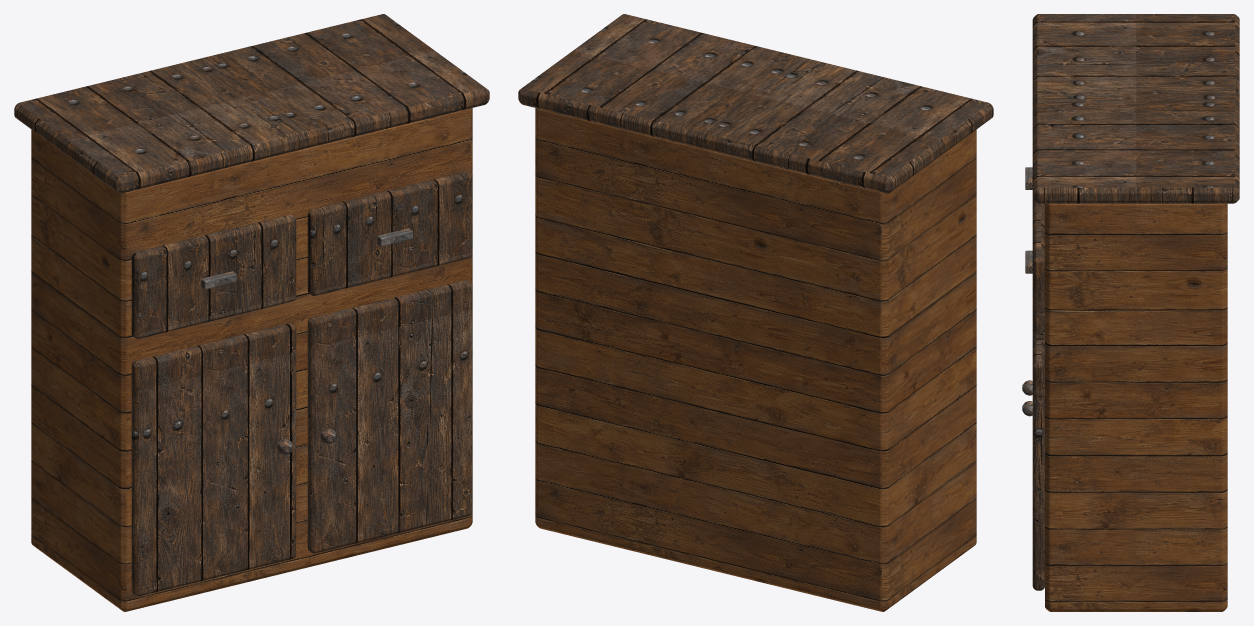
The model's file is kitchen-cabinet-v01.glb.
The picture shows the model from 3 angles, left to right: view 1: azimuth 30°, elevation 25°; view 2: azimuth 150°, elevation 25°; view 3: azimuth 270°, elevation 25°; orthographic projection. The views are drawn at different scales.
Visible parts, largest first — view 1: kitchen-cabinet; view 2: kitchen-cabinet; view 3: kitchen-cabinet.
Part boxes in pixels (x1,y1,x2,y2): kitchen-cabinet: (14,14,489,611); kitchen-cabinet: (518,14,993,611); kitchen-cabinet: (1022,14,1239,611).
Bounding box in the file's own units: 1.38 × 1.56 × 0.7146.
Materials: 3 (3 with a texture image).
